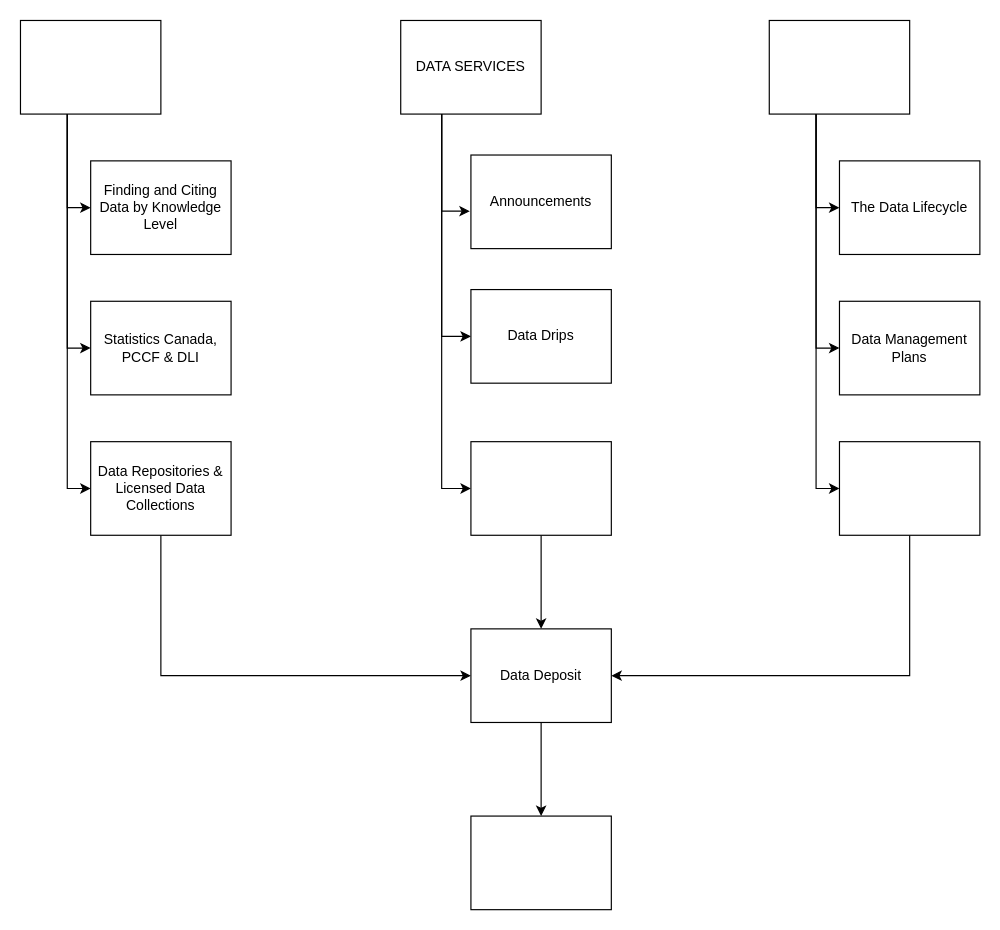
This 1000x930 diagram has some shape labels left out. Here are the shapes that lost their labels. From the top down, the centre of each, then its label:
At (x=90, y=66): "FINDING DATA".
At (x=839, y=66): "RESEARCH DATA MANAGEMENT".
At (x=540, y=488): "Statistical Help".
At (x=909, y=488): "Best Practices in RDM".
At (x=540, y=862): "Data Repository Finder Tool (Borealis, FRDR & ShareFile)".
